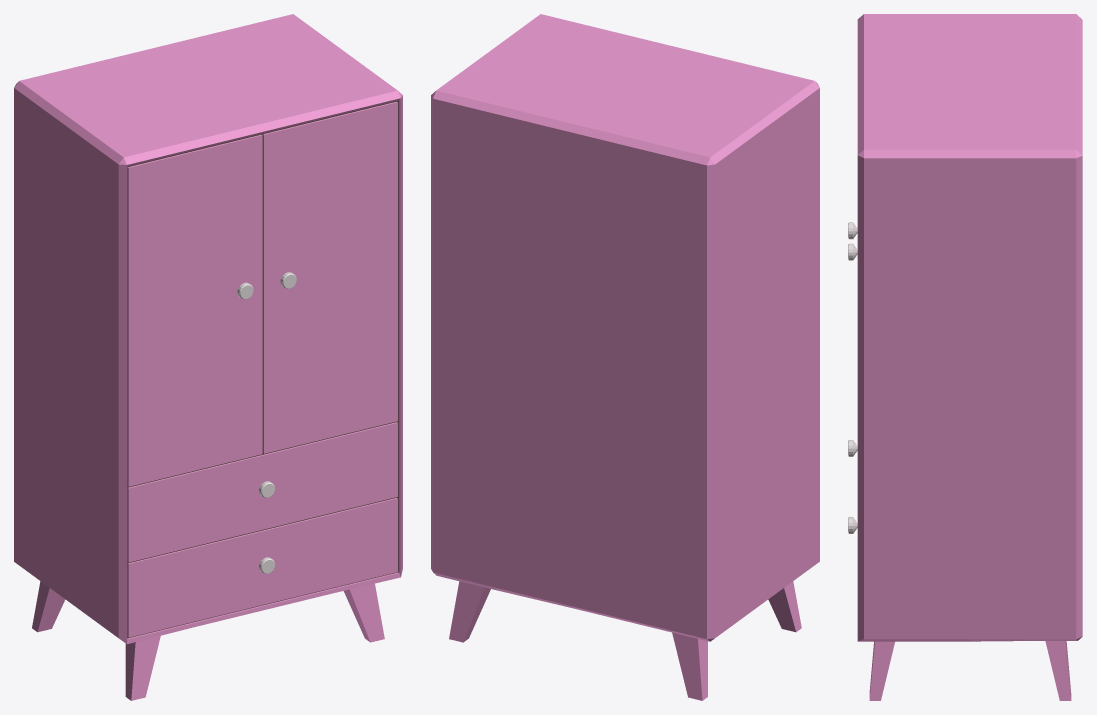
File: pink Wardrobe.fbx
3 renders of one model, left to right at view 1: azimuth 30°, elevation 25°; view 2: azimuth 150°, elevation 25°; view 3: azimuth 270°, elevation 25°, orthographic.
Visible parts, largest first — view 1: Cube; view 2: Cube; view 3: Cube.
Part boxes in pixels (x1=…): Cube: x1=14, y1=14, x2=402, y2=700; Cube: x1=431, y1=14, x2=819, y2=700; Cube: x1=848, y1=14, x2=1082, y2=700.
Size of the model in its own units: 100 by 184 by 70.52.
